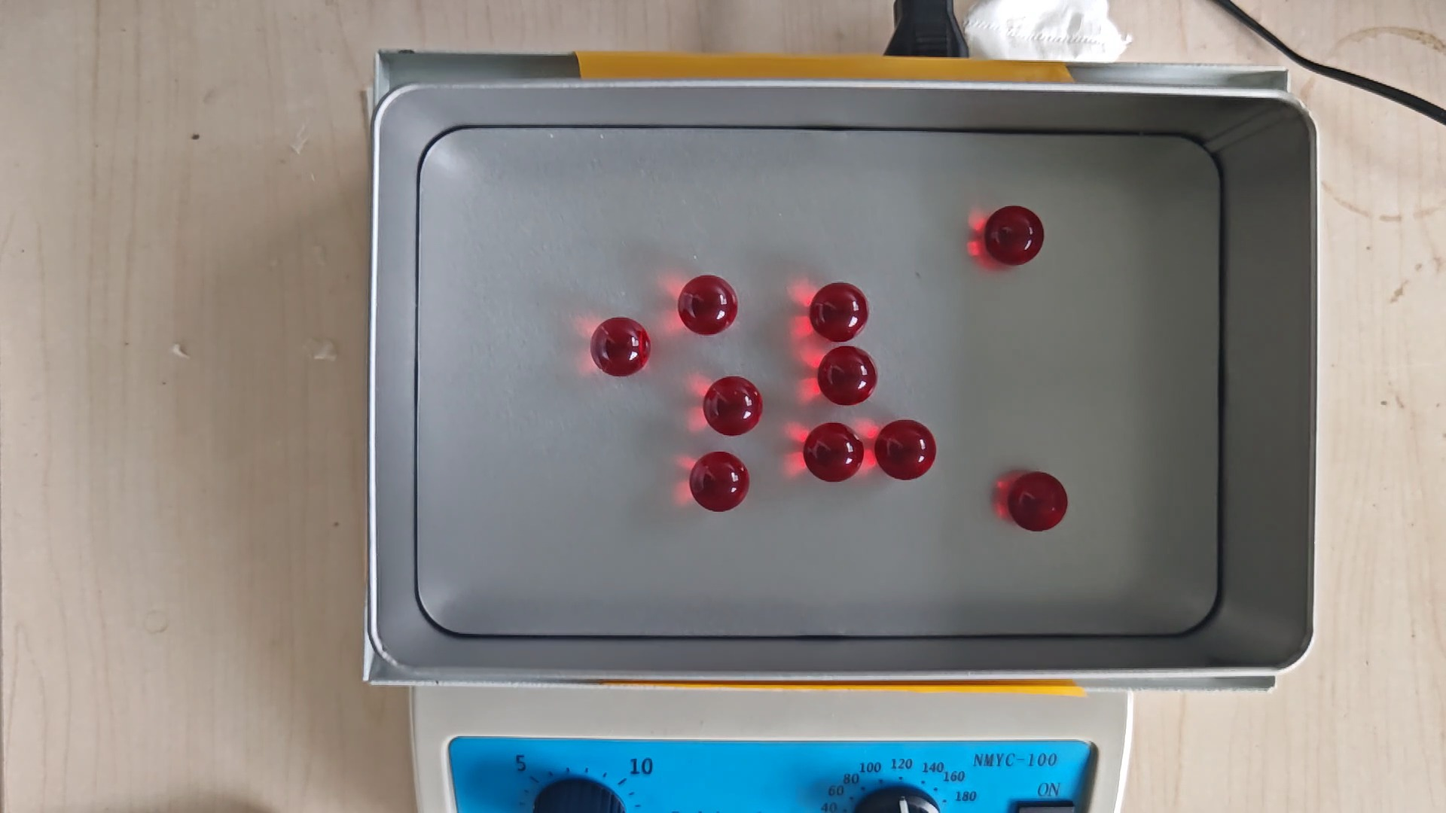ball: (875, 419, 936, 481), (690, 451, 750, 513), (804, 421, 864, 483), (678, 274, 738, 336), (591, 316, 650, 378), (703, 375, 762, 437), (818, 345, 877, 406), (1009, 471, 1068, 532), (986, 204, 1044, 266), (811, 282, 869, 342)
container: (416, 128, 1221, 637)
